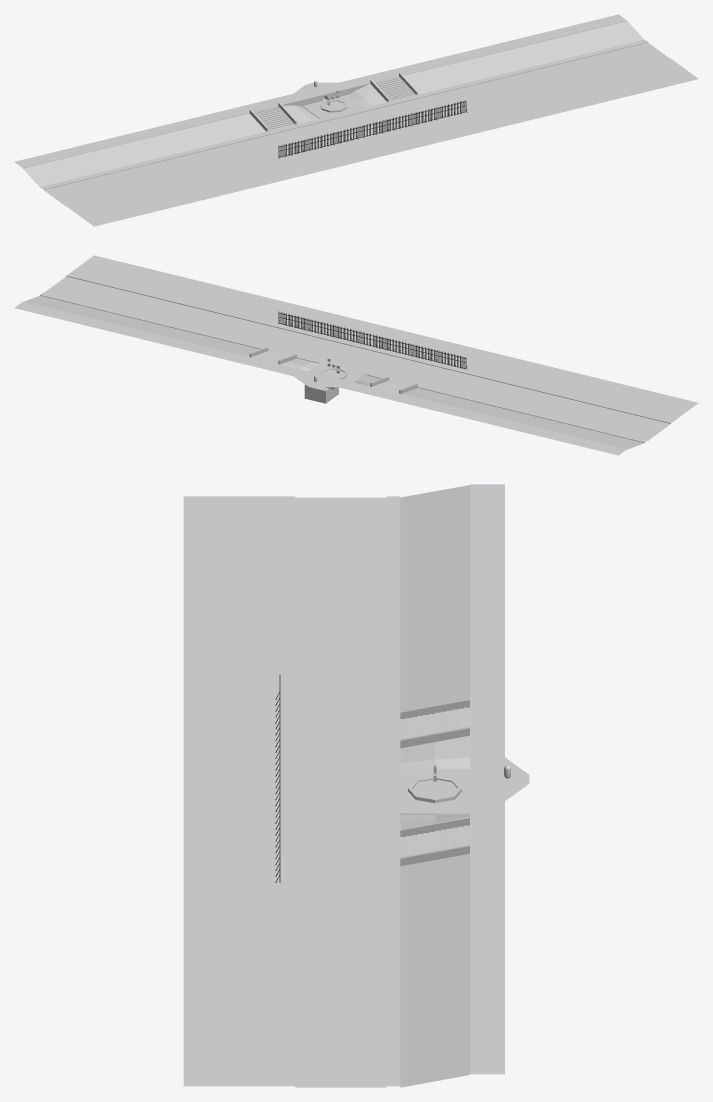
The model's file is Outside.FBX.
3 renders of one model, top to bottom at view 1: azimuth 30°, elevation 25°; view 2: azimuth 150°, elevation 25°; view 3: azimuth 270°, elevation 25°, orthographic. The views are drawn at different scales.
Parts seen in each view (by area): view 1: Ground, FencePost; view 2: Ground, FencePost; view 3: Ground.
Boxes of the visible parts, left/top/right/bottom form: Ground: left=14, top=14, right=698, bottom=226; FencePost: left=278, top=100, right=467, bottom=158; Ground: left=14, top=255, right=698, bottom=455; FencePost: left=278, top=311, right=467, bottom=369; Ground: left=183, top=484, right=529, bottom=1087.
Size of the model in its own units: 2000 by 99 by 495.
